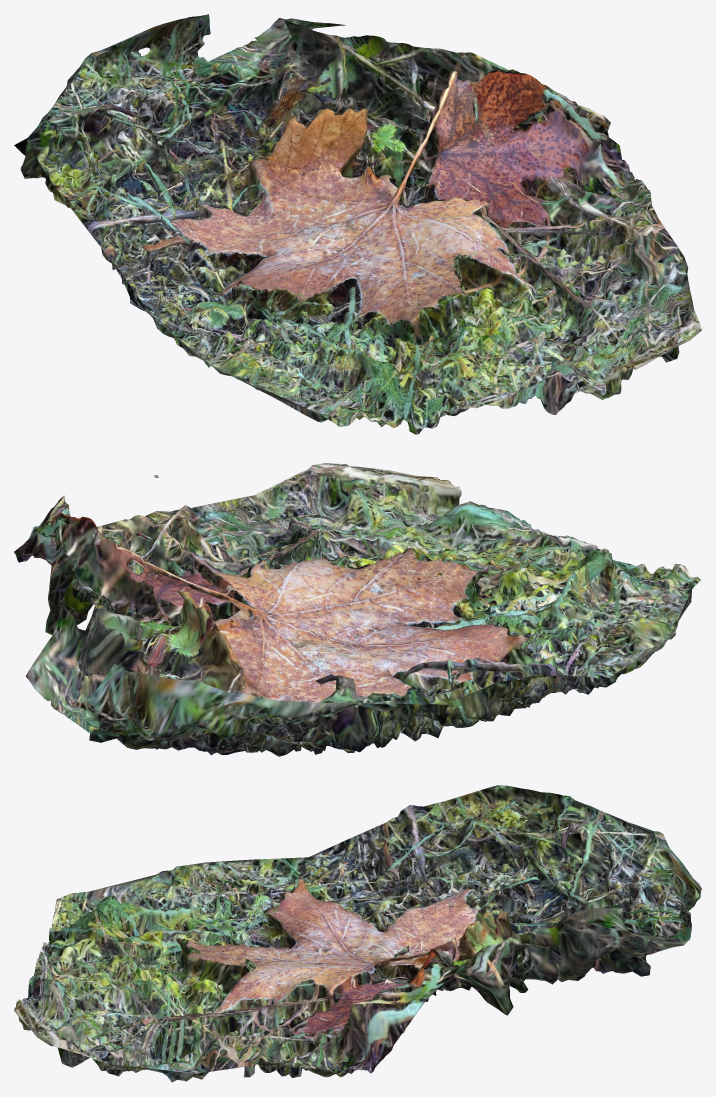
3 views of the same model, one above another, from view 1: azimuth 30°, elevation 25°; view 2: azimuth 150°, elevation 25°; view 3: azimuth 270°, elevation 25° (orthographic). The views are drawn at different scales.
Parts seen in each view (by area): view 1: meshes[0]; view 2: meshes[0]; view 3: meshes[0].
Boxes of the visible parts, x1,y1,x2,y2 form: meshes[0]: (14,14,701,434); meshes[0]: (14,463,701,756); meshes[0]: (14,785,701,1082).
Size of the model in its own units: 0.00276 by 0.000765 by 0.0035.
Materials: 1 (1 with a texture image).
